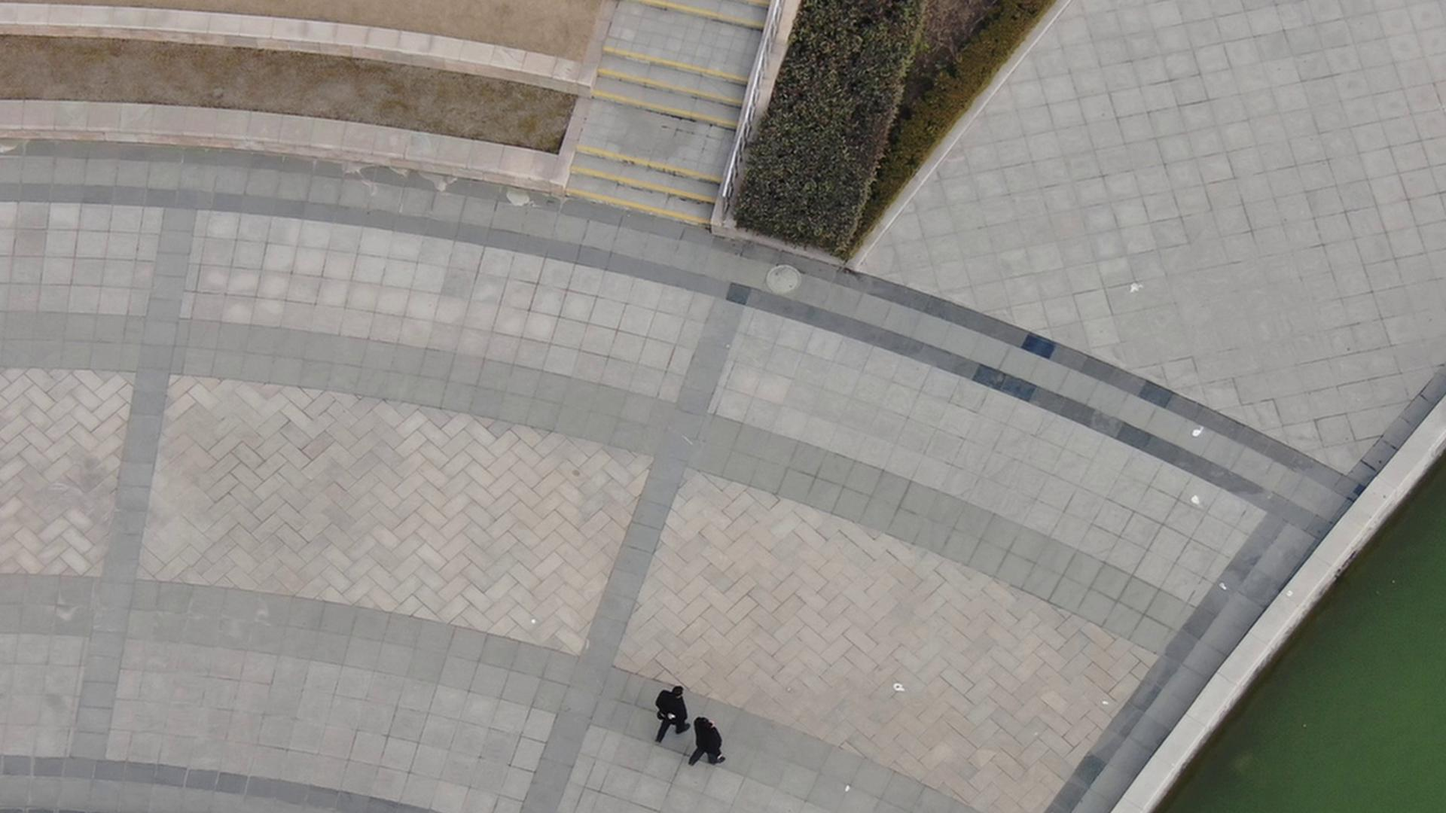human: (692, 712, 740, 784), (661, 686, 695, 761)
